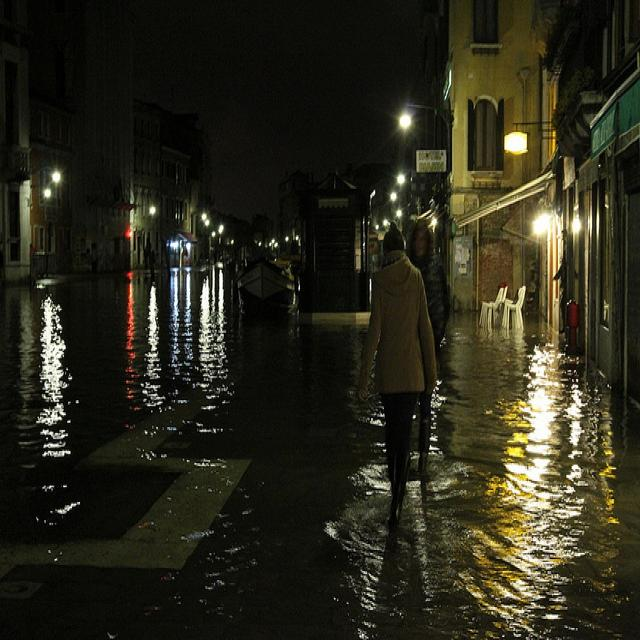Boat: (234, 221, 295, 315)
People: (369, 212, 439, 522)
chair: (464, 273, 512, 329), (499, 281, 533, 346)
